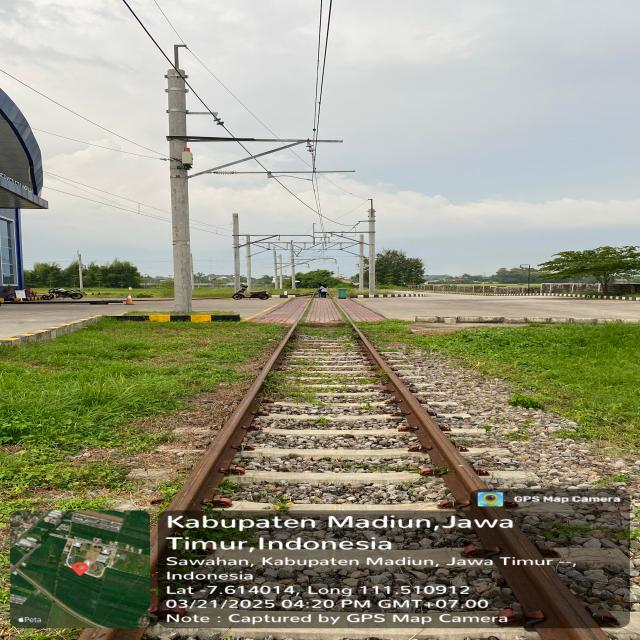rail-detection: (351, 323, 608, 640), (150, 321, 297, 612)
